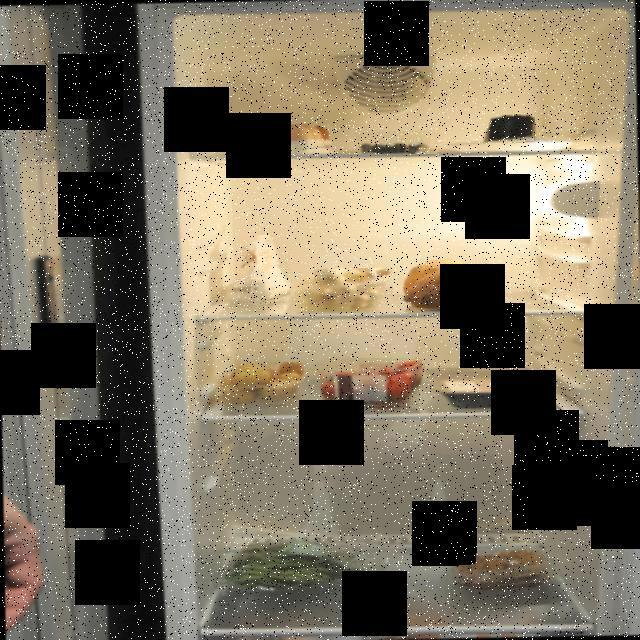blueberries: (360, 138, 438, 154)
cheese: (483, 114, 535, 145)
chicken_breast: (434, 370, 542, 408)
eggs: (253, 124, 332, 155)
flour: (218, 235, 291, 308)
green_beans: (217, 537, 366, 596)
mushrooms: (294, 268, 393, 310)
potato: (212, 362, 308, 410)
shrimp: (454, 550, 551, 590)
strawberries: (326, 358, 422, 411)
sweet_potato: (402, 258, 490, 312)
